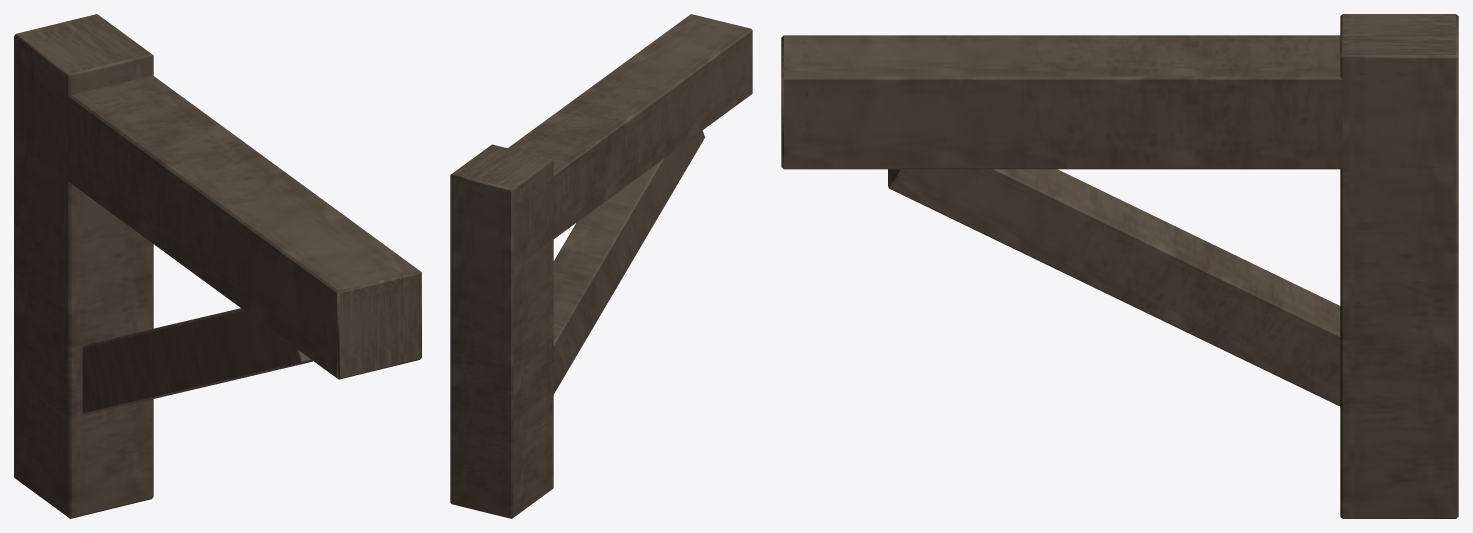
Rendered from BW_Inn01_SignBracket.fbx.
3 views of the same model, side by side, from view 1: azimuth 30°, elevation 25°; view 2: azimuth 150°, elevation 25°; view 3: azimuth 270°, elevation 25° (orthographic). The views are drawn at different scales.
Visible parts, largest first — view 1: BW_Inn01_SignBracket; view 2: BW_Inn01_SignBracket; view 3: BW_Inn01_SignBracket.
Part boxes in pixels (x1,y1,x2,y2): BW_Inn01_SignBracket: [14, 14, 421, 518]; BW_Inn01_SignBracket: [450, 14, 752, 518]; BW_Inn01_SignBracket: [781, 14, 1458, 518].
Bounding box in the file's own units: 0.13 × 0.65 × 0.86.
